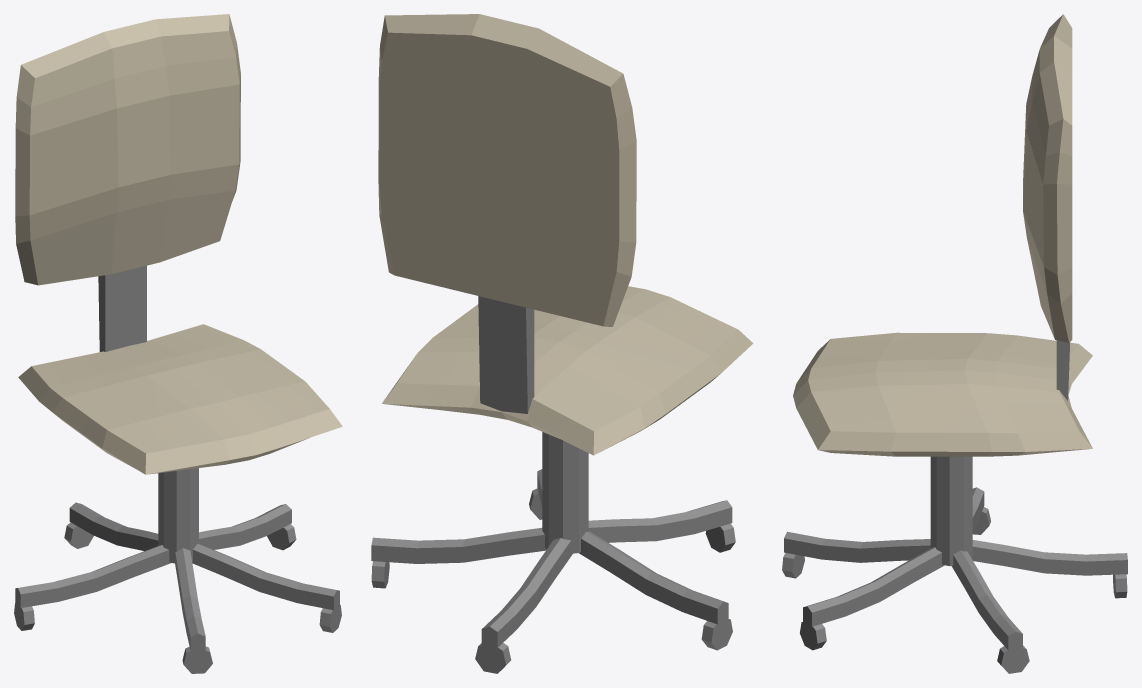
The model's file is OfficeChair_Open.fbx.
3 renders of one model, left to right at view 1: azimuth 30°, elevation 25°; view 2: azimuth 150°, elevation 25°; view 3: azimuth 270°, elevation 25°, orthographic. The views are drawn at different scales.
Visible parts, largest first — view 1: pCylinder1; view 2: pCylinder1; view 3: pCylinder1.
Part boxes in pixels (x1=…): pCylinder1: x1=14, y1=14, x2=342, y2=673; pCylinder1: x1=371, y1=14, x2=753, y2=673; pCylinder1: x1=782, y1=14, x2=1127, y2=673.
Size of the model in its own units: 66.27 by 117 by 66.1.
